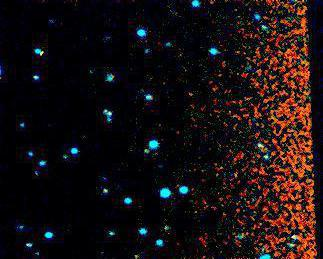star: (28, 41, 58, 71)
